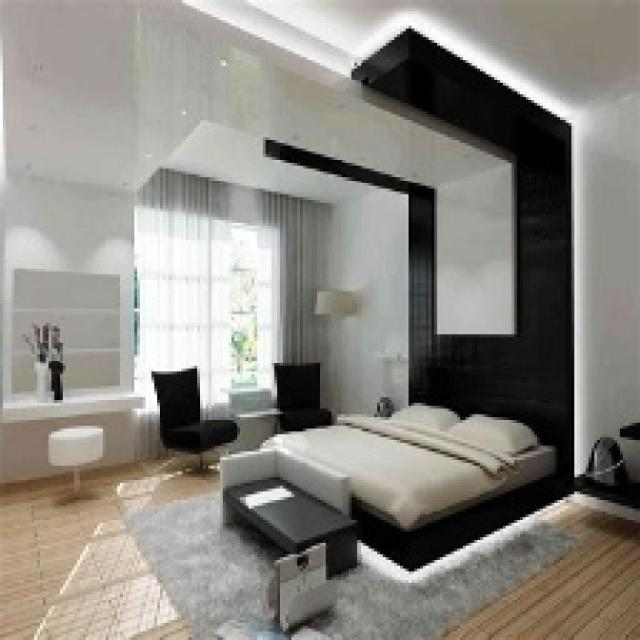Bed: (220, 400, 560, 574)
